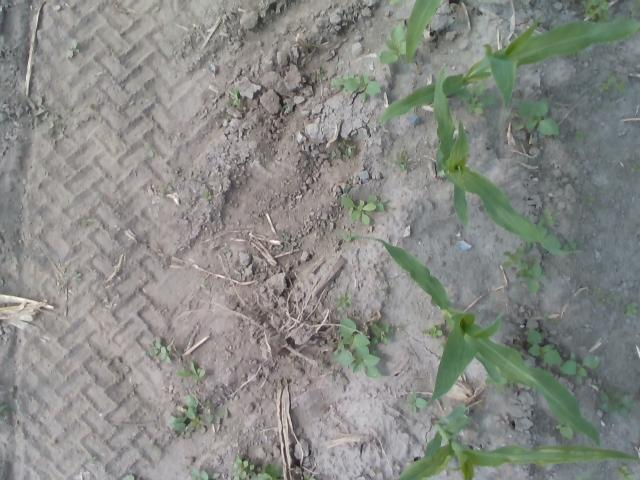Maize: (348, 231, 602, 480), (376, 14, 640, 128), (432, 64, 569, 256), (392, 402, 640, 480), (389, 0, 462, 64), (412, 455, 596, 480)
Weeds: (526, 326, 600, 385), (332, 317, 382, 379), (502, 241, 548, 296), (166, 394, 228, 430), (512, 98, 560, 136), (454, 82, 498, 116), (340, 194, 388, 225), (331, 73, 382, 102), (596, 384, 636, 418), (378, 21, 408, 65), (230, 457, 284, 480), (27, 96, 54, 128), (577, 0, 612, 23), (484, 368, 516, 393), (598, 70, 627, 94), (176, 361, 206, 384), (368, 320, 394, 346), (149, 338, 174, 364), (330, 137, 355, 160), (538, 228, 562, 250), (406, 392, 428, 414), (535, 207, 557, 227), (188, 467, 221, 480), (554, 421, 576, 440), (224, 86, 242, 107), (394, 151, 413, 170), (334, 291, 353, 310), (278, 234, 298, 250), (616, 465, 636, 480), (620, 300, 638, 316), (592, 285, 606, 305), (422, 324, 442, 338), (66, 38, 78, 58), (584, 192, 598, 208), (143, 140, 155, 157), (574, 130, 588, 144), (562, 238, 577, 251), (631, 0, 640, 17), (202, 186, 212, 200), (340, 232, 352, 243), (72, 269, 82, 282), (0, 402, 8, 414), (120, 474, 135, 480), (318, 69, 326, 80), (304, 473, 316, 480), (389, 0, 403, 6), (611, 294, 621, 302), (633, 163, 640, 174), (88, 456, 96, 462), (438, 342, 444, 350), (165, 184, 172, 190)
